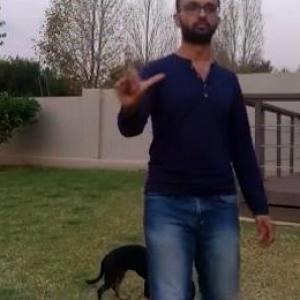land_hand: (109, 42, 162, 110)
